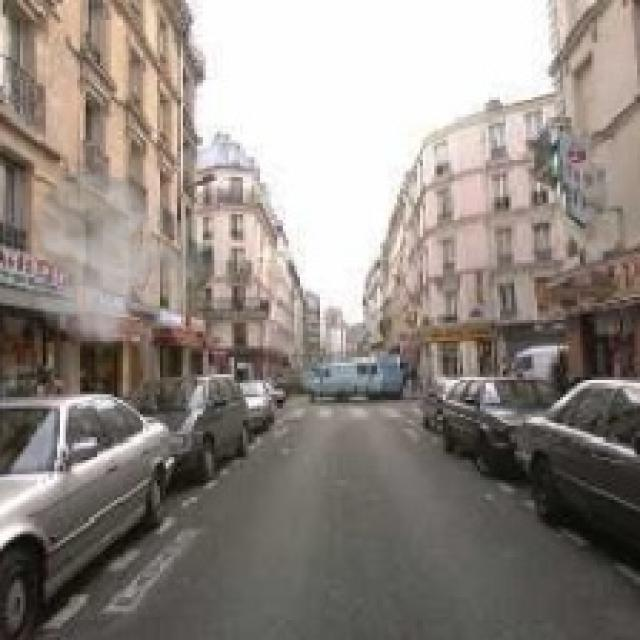Smoke: (11, 152, 226, 358)
